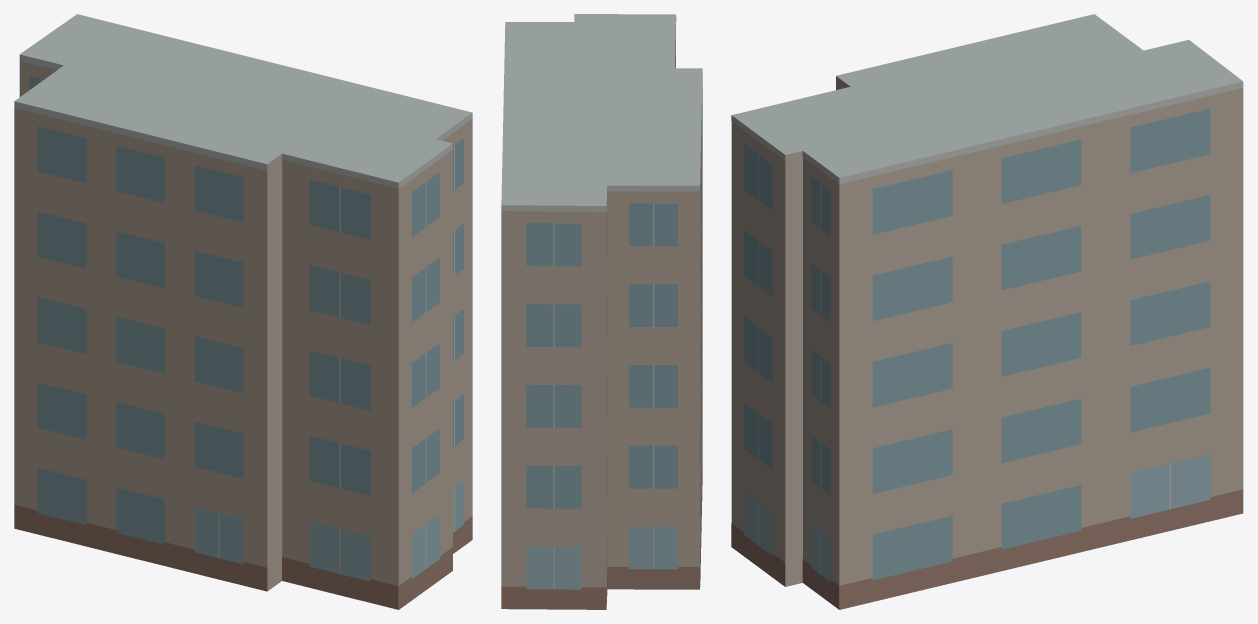
File: survey-upis-32627745.glb
The picture shows the model from 3 angles, left to right: view 1: azimuth 30°, elevation 25°; view 2: azimuth 150°, elevation 25°; view 3: azimuth 270°, elevation 25°; orthographic projection. The views are drawn at different scales.
Parts seen in each view (by area): view 1: survey-upis-32627745.tmp; view 2: survey-upis-32627745.tmp; view 3: survey-upis-32627745.tmp.
Part boxes in pixels (x1,y1,x2,y2): survey-upis-32627745.tmp: (14,14,472,609); survey-upis-32627745.tmp: (501,14,702,609); survey-upis-32627745.tmp: (731,14,1243,609).
Bounding box in the file's own units: 13.52 × 16.6 × 17.84.
